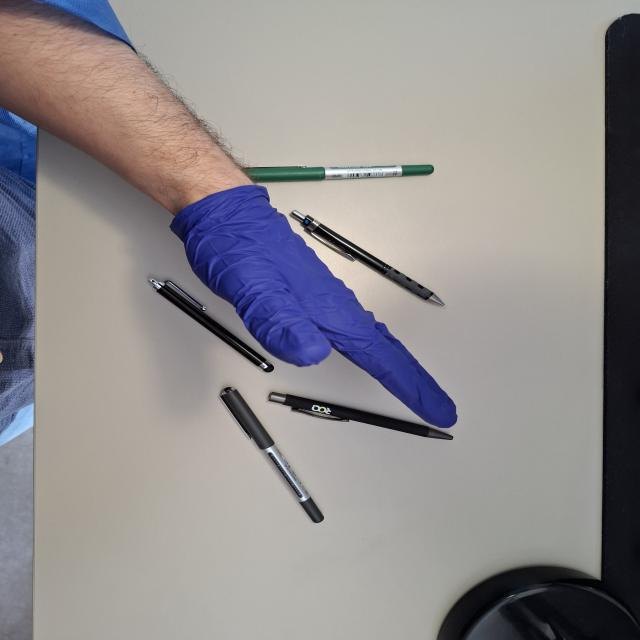glove_on: (167, 180, 462, 431)
